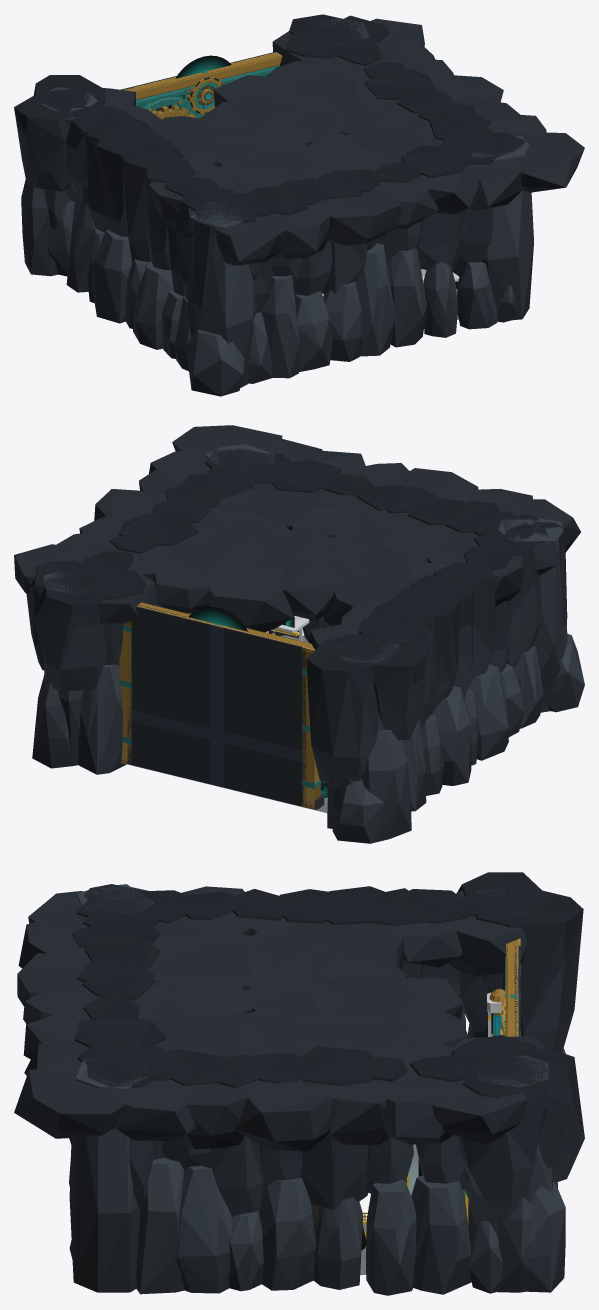
File: gear-hall.glb
3 views of the same model, one above another, from view 1: azimuth 30°, elevation 25°; view 2: azimuth 150°, elevation 25°; view 3: azimuth 270°, elevation 25° (orthographic). The views are drawn at different scales.
Parts seen in each view (by area): view 1: Batched static valley, Spin_z_19 body; view 2: Batched static valley; view 3: Batched static valley.
Part boxes in pixels (left/top/right/bottom): Batched static valley: left=14, top=14, right=584, bottom=396; Spin_z_19 body: left=187, top=77, right=222, bottom=114; Batched static valley: left=14, top=425, right=584, bottom=843; Batched static valley: left=14, top=872, right=584, bottom=1295.
Size of the model in its own units: 54.5 by 22.64 by 54.25.
10 materials, 2 textured.
